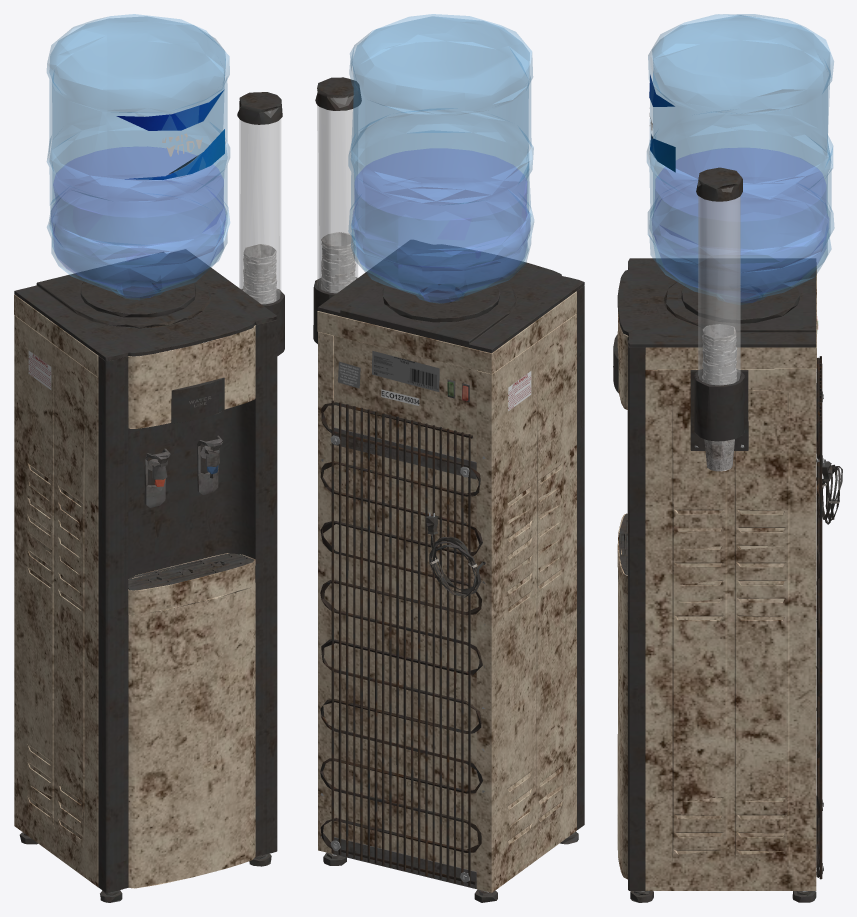
The model's file is park_water_cooler.glb.
3 renders of one model, left to right at view 1: azimuth 30°, elevation 25°; view 2: azimuth 150°, elevation 25°; view 3: azimuth 270°, elevation 25°, orthographic. The views are drawn at different scales.
Visible parts, largest first — view 1: park_water_cooler; view 2: park_water_cooler; view 3: park_water_cooler.
Part boxes in pixels (x1,y1,x2,y2): park_water_cooler: (14,14,284,902); park_water_cooler: (313,14,584,902); park_water_cooler: (613,14,842,902).
Bounding box in the file's own units: 0.607 × 2.1 × 0.5353.
Materials: 17 (11 with a texture image).
